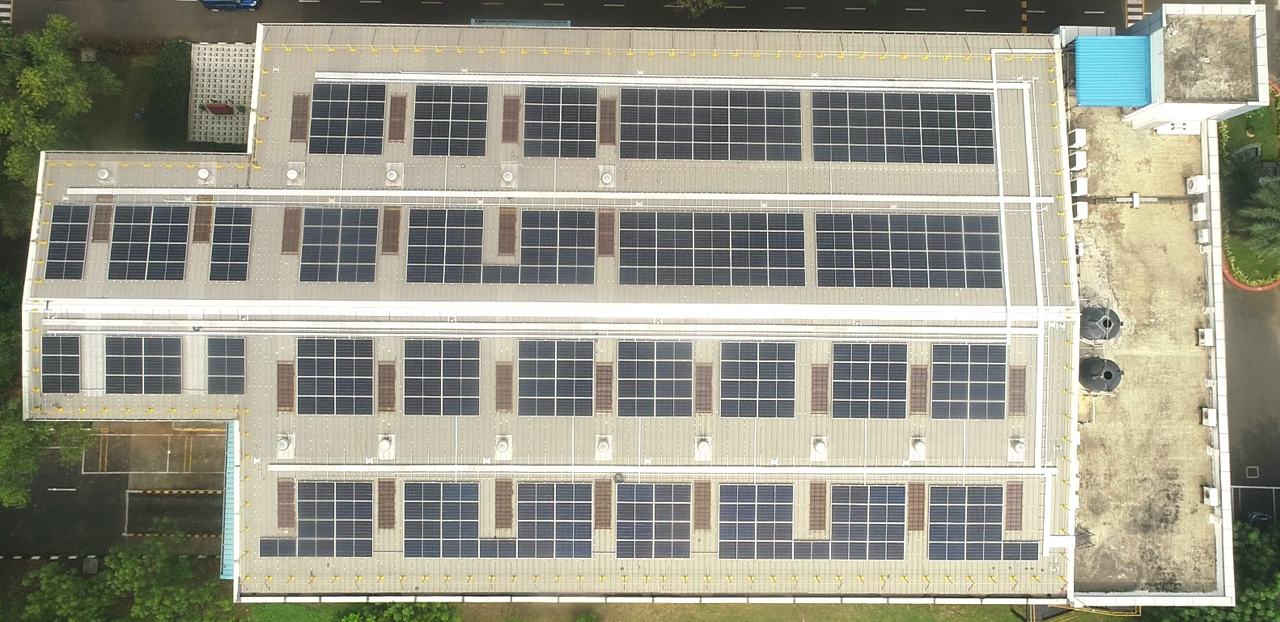solar-panel: (617, 180, 776, 339), (623, 77, 709, 163), (293, 335, 373, 415), (830, 339, 909, 418), (309, 79, 387, 157), (304, 210, 381, 287), (931, 491, 1008, 568), (933, 344, 1010, 421), (516, 483, 592, 559), (408, 206, 483, 281), (522, 207, 597, 282), (406, 340, 481, 415), (299, 484, 373, 558), (886, 89, 959, 162), (409, 486, 482, 559), (834, 482, 907, 555), (118, 210, 190, 282), (409, 86, 481, 158), (814, 91, 885, 162), (38, 207, 108, 277), (624, 482, 694, 552), (106, 333, 173, 400), (814, 217, 877, 280), (206, 204, 265, 263), (198, 339, 254, 395)
